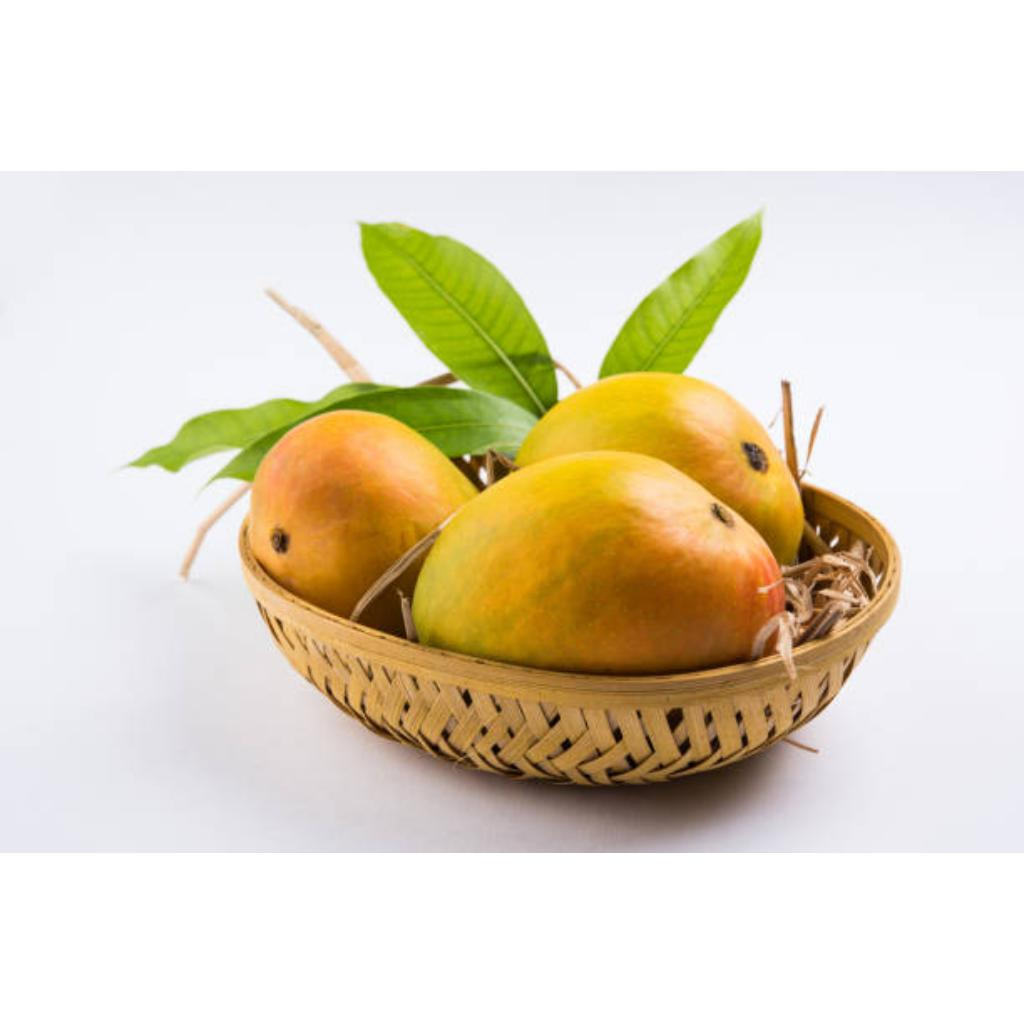mango: (414, 453, 784, 674), (516, 373, 802, 563), (248, 411, 476, 616)
